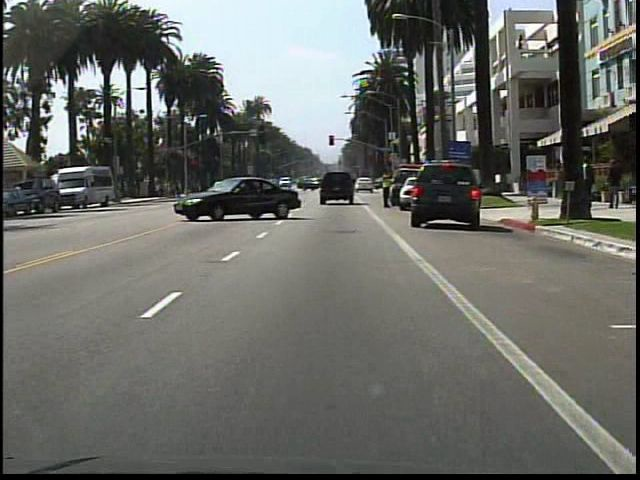person: (603, 155, 625, 215), (564, 162, 580, 214), (379, 167, 397, 212), (581, 157, 597, 195)
